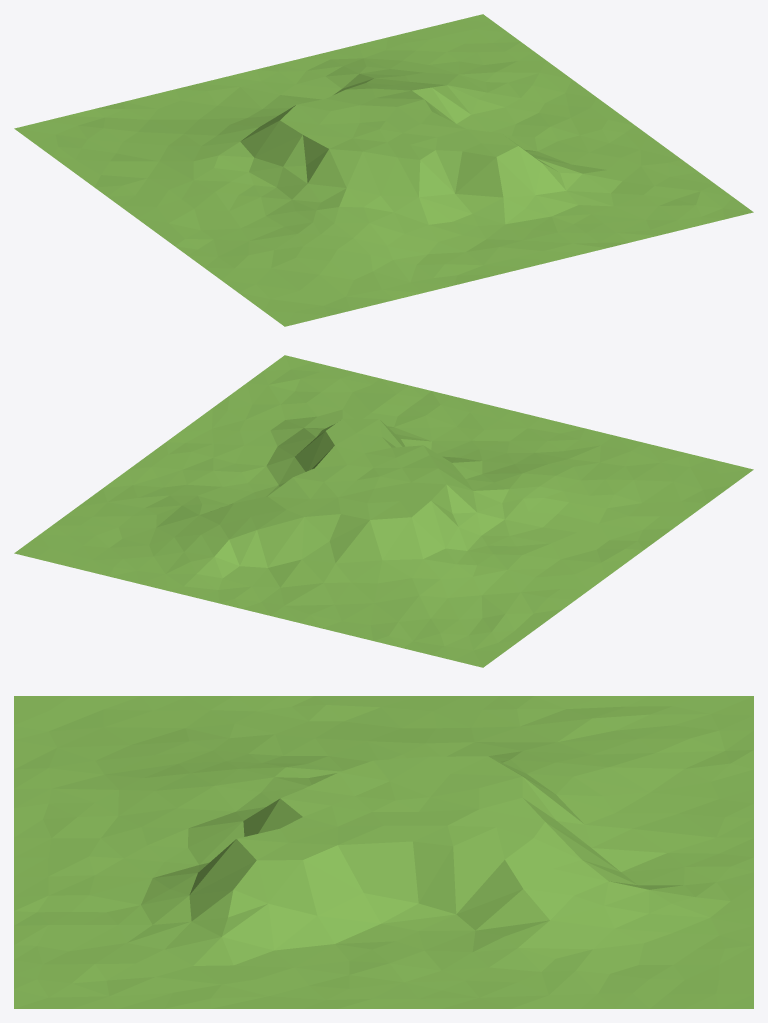
The model's file is MT_Terrain_M_d_22.fbx.
3 views of the same model, one above another, from view 1: azimuth 30°, elevation 25°; view 2: azimuth 150°, elevation 25°; view 3: azimuth 270°, elevation 25° (orthographic). The views are drawn at different scales.
Parts seen in each view (by area): view 1: MT_Terrain_M_d_22; view 2: MT_Terrain_M_d_22; view 3: MT_Terrain_M_d_22.
Part boxes in pixels (x1,y1,x2,y2): MT_Terrain_M_d_22: (14,14,753,326); MT_Terrain_M_d_22: (14,355,753,667); MT_Terrain_M_d_22: (14,696,753,1008).
Size of the model in its own units: 5000 by 418 by 5000.
